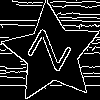Z: (27, 28, 81, 78)
